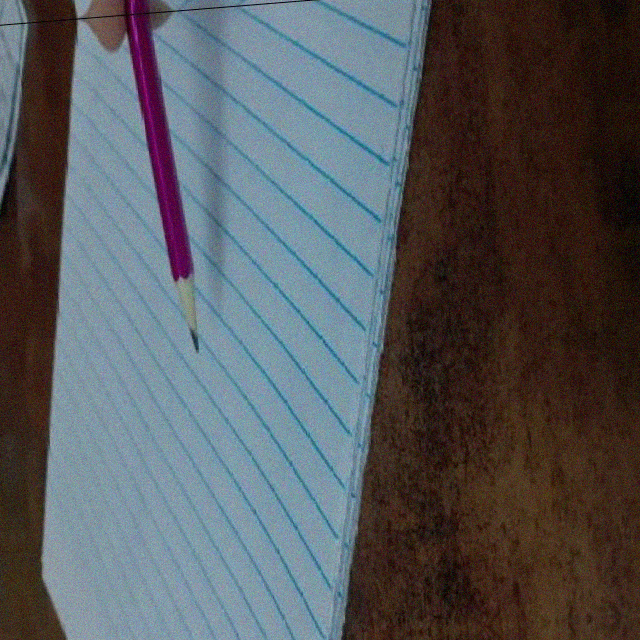pencil: (168, 275, 207, 356)
